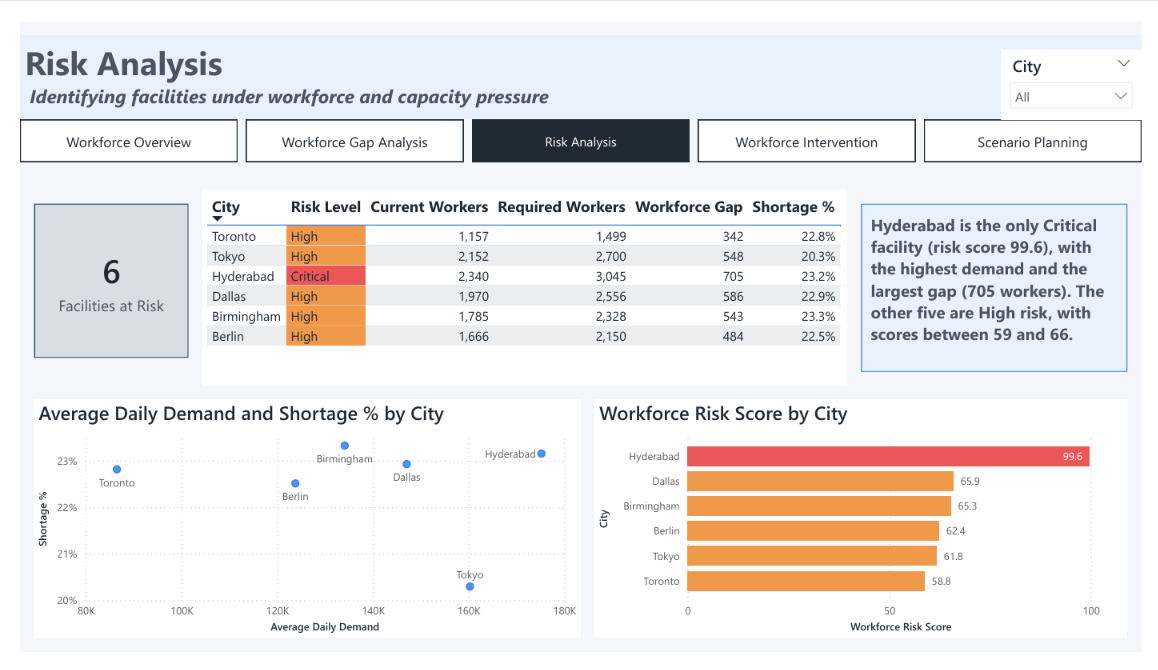

This screenshot's page, from the dashboard's own definition file:
{"tool":"powerbi","page":{"name":"Risk Analysis","canvas":[1280,720],"ordinal":2},"visuals":[{"type":"textbox","box":[0,16,1280,96],"z":0},{"type":"pageNavigator","box":[0,112,1280,48],"z":1000},{"type":"clusteredBarChart","fields":{"Category":["facilities.city"],"Y":["_Measures.Workforce Risk Score"]},"box":[656,432,608,272],"z":2000},{"type":"tableEx","fields":{"Values":["facilities.city","vw_facility_risk.risk_level","_Measures.Current Workers","_Measures.Required Workers","_Measures.Workforce Gap","_Measures.Shortage %"]},"box":[208,192,736,224],"z":3000},{"type":"card","fields":{"Values":["_Measures.Facilities at Risk"]},"box":[16,208,176,176],"z":4000},{"type":"scatterChart","fields":{"X":["_Measures.Average Daily Demand"],"Y":["_Measures.Shortage %"],"Category":["facilities.city"]},"box":[16,432,624,272],"z":5000},{"type":"textbox","box":[960,208,304,192],"z":6000},{"type":"slicer","fields":{"Values":["facilities.city"]},"box":[1120,32,160,80],"z":7000}]}

Visuals, with their boxes in screenshot pixels (x1, y1, x2, y2), scaled from the page's 1280x720 canvas onto the 1158x670 screenshot:
textbox: select_region(0, 15, 1157, 104)
pageNavigator: select_region(0, 104, 1157, 149)
clusteredBarChart - facilities.city x _Measures.Workforce Risk Score: select_region(593, 402, 1144, 655)
tableEx - facilities.city x vw_facility_risk.risk_level: select_region(188, 179, 854, 387)
card - _Measures.Facilities at Risk: select_region(14, 194, 174, 357)
scatterChart - _Measures.Average Daily Demand x _Measures.Shortage %: select_region(14, 402, 579, 655)
textbox: select_region(868, 194, 1144, 372)
slicer - facilities.city: select_region(1013, 30, 1157, 104)
